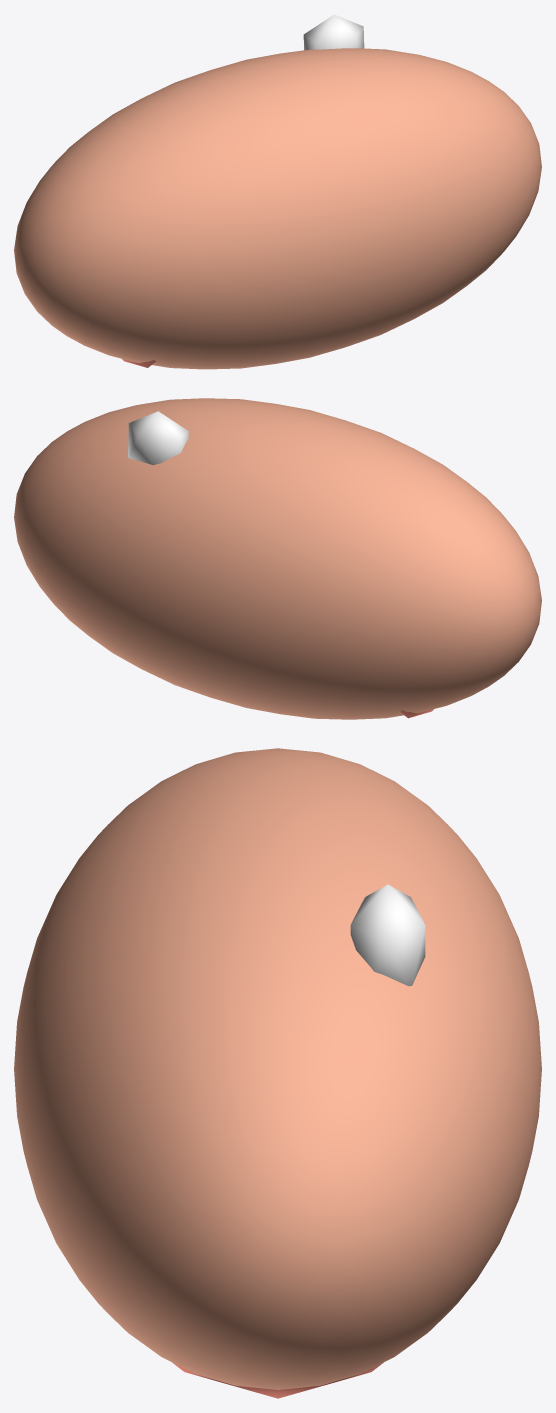
Rendered from cell.mitochondrion.glb.
The picture shows the model from 3 angles, top to bottom: view 1: azimuth 30°, elevation 25°; view 2: azimuth 150°, elevation 25°; view 3: azimuth 270°, elevation 25°; orthographic projection. The views are drawn at different scales.
Visible parts, largest first — view 1: Mito, Glint; view 2: Mito, Glint; view 3: Mito, Glint.
Boxes of the visible parts, bbox=[...] form: Mito: bbox=[14, 48, 541, 369]; Glint: bbox=[303, 14, 364, 50]; Mito: bbox=[14, 398, 541, 719]; Glint: bbox=[128, 411, 188, 465]; Mito: bbox=[14, 748, 541, 1389]; Glint: bbox=[350, 884, 425, 986].
Bounding box in the file's own units: 0.46 × 0.25 × 0.24.
